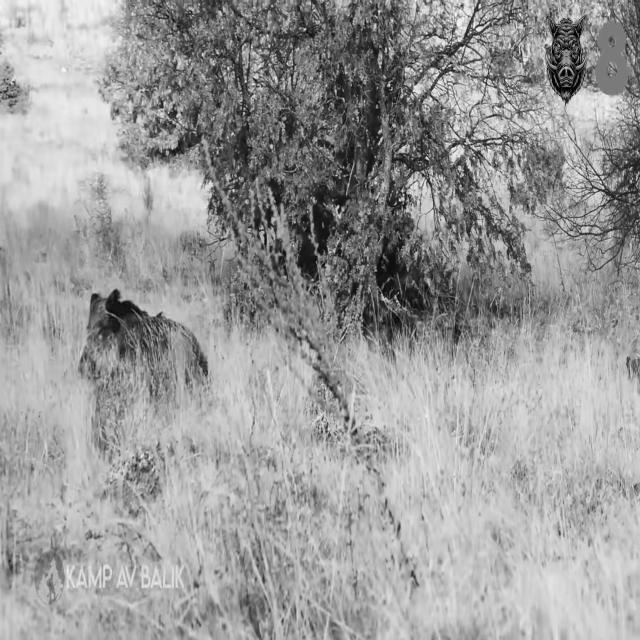boar: (79, 289, 207, 391)
